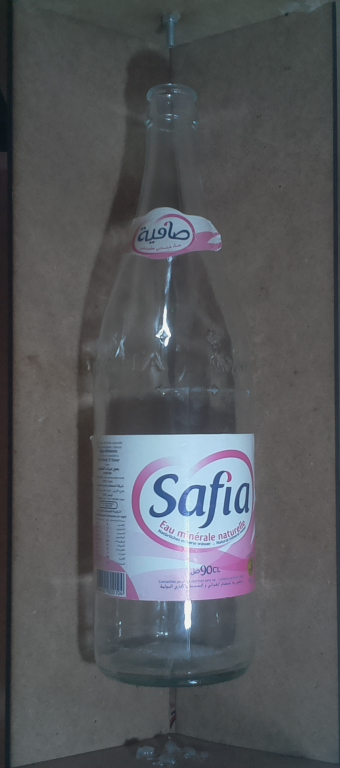Glass: (80, 70, 268, 694)
